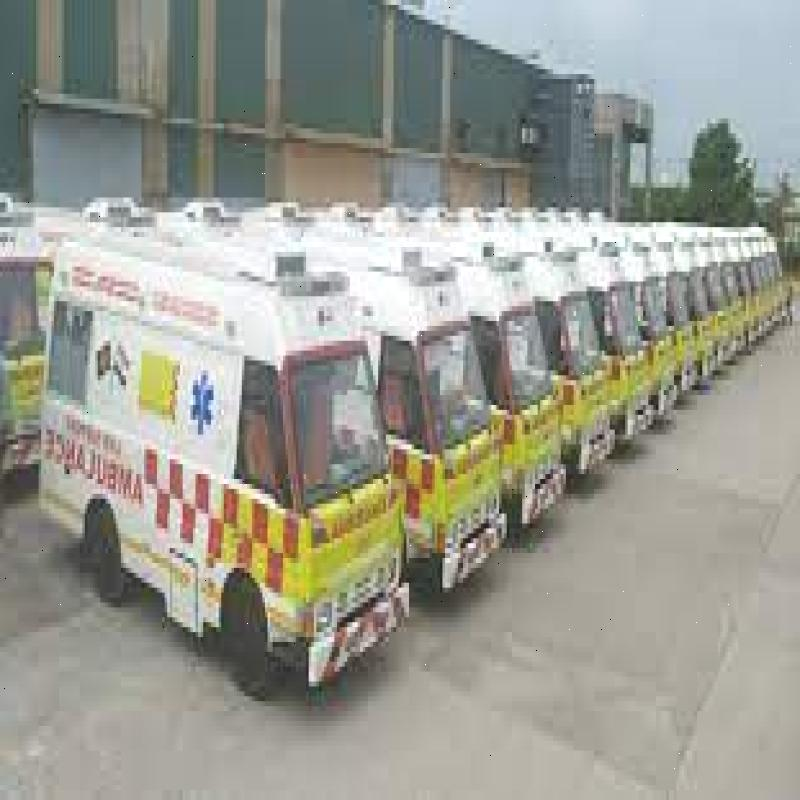ambulance: (17, 208, 428, 726), (286, 210, 512, 627), (434, 260, 567, 560)
